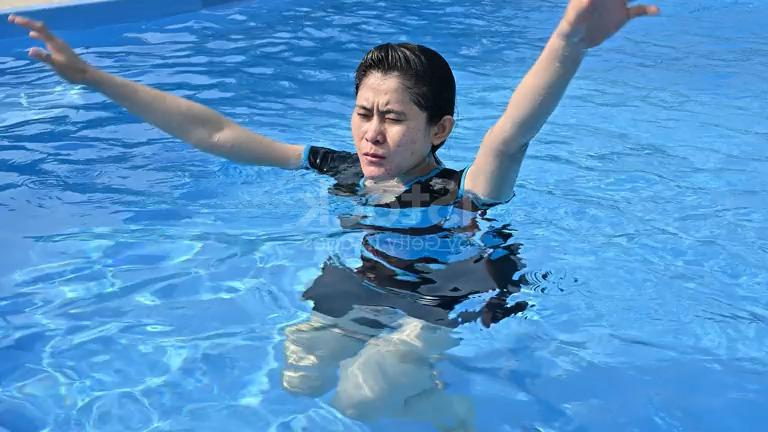Drowning: (51, 1, 679, 270)
